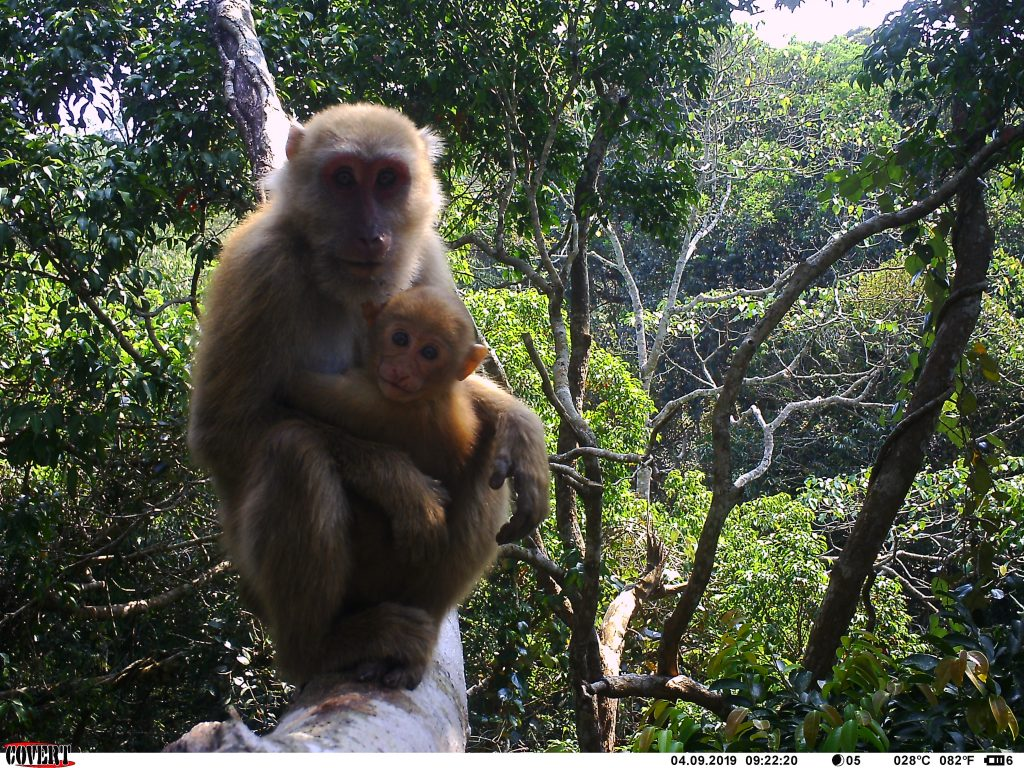monkey: (174, 91, 549, 712), (280, 263, 528, 555)
